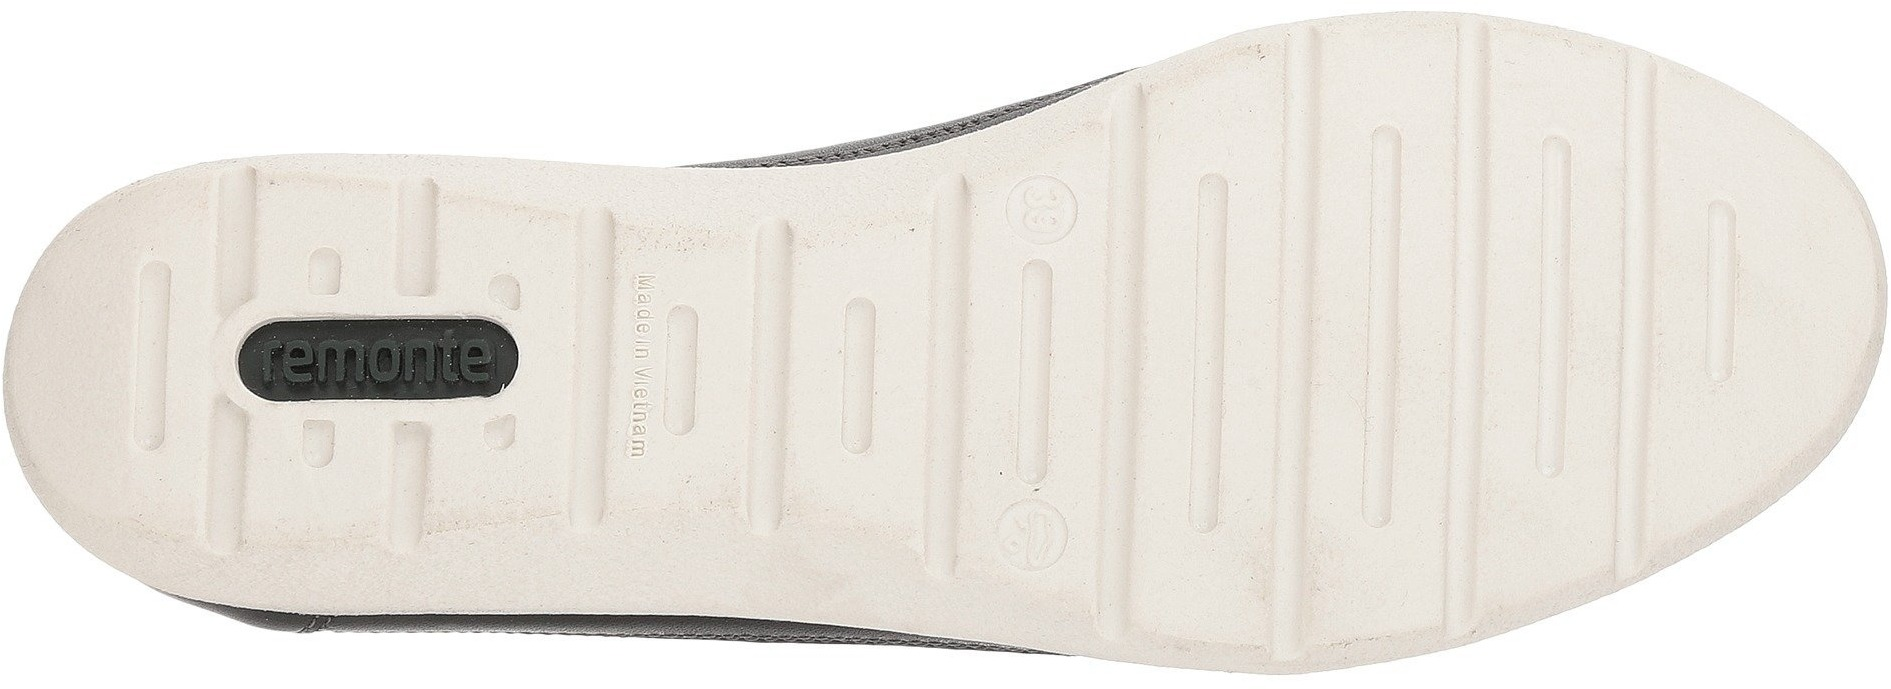circle: (368, 329, 405, 391)
line: (1602, 162, 1665, 452), (1524, 165, 1582, 452)
quad: (1270, 202, 1516, 484), (1530, 176, 1767, 431), (725, 271, 977, 491), (1019, 256, 1258, 483), (207, 280, 543, 430), (791, 279, 925, 477), (987, 255, 1071, 489), (646, 296, 740, 474), (658, 297, 706, 446)
text: (355, 315, 443, 407), (268, 323, 345, 397), (1008, 180, 1077, 246), (996, 514, 1052, 565), (625, 269, 663, 333)
